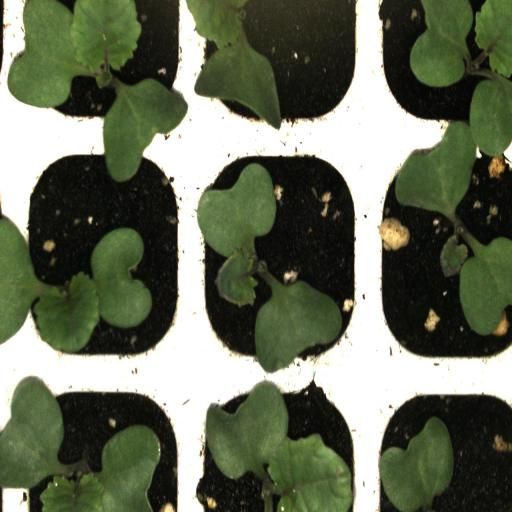Folha: (187, 0, 311, 126), (197, 163, 277, 307), (255, 279, 342, 372), (380, 416, 454, 512)
Germinacao: (10, 140, 190, 376), (190, 139, 370, 374), (369, 138, 512, 374), (10, 372, 192, 512), (12, 0, 190, 139), (193, 374, 371, 512), (370, 0, 512, 136)
